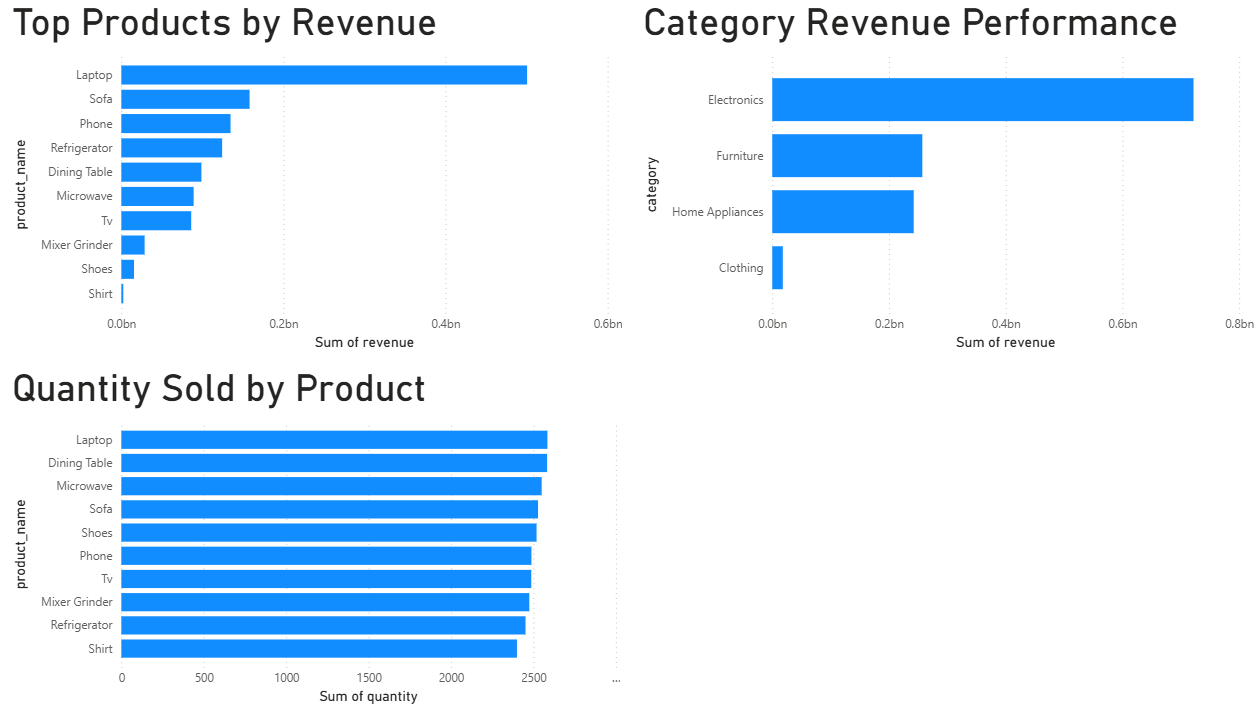

Layout of this report page (visuals, bound fields, positions):
{"tool":"powerbi","page":{"name":"Product Analysis","canvas":[1280,720],"ordinal":1},"visuals":[{"type":"clusteredBarChart","title":"Top Products by Revenue","fields":{"Category":["final_cleaned_data.product_name"],"Y":["Sum(final_cleaned_data.revenue)"]},"box":[9.7,0,629.6,360.7],"z":0},{"type":"clusteredBarChart","title":"Quantity Sold by Product","fields":{"Category":["final_cleaned_data.product_name"],"Y":["Sum(final_cleaned_data.quantity)"]},"box":[10,371,630,349],"z":1},{"type":"clusteredBarChart","title":"Category Revenue Performance","fields":{"Category":["final_cleaned_data.category"],"Y":["Sum(final_cleaned_data.revenue)"]},"box":[650,0,630,361],"z":2}]}

Visuals, with their boxes in screenshot pixels (x1, y1, x2, y2), scaled from the page's 1280x720 canvas onto the 1258x705 screenshot:
"Top Products by Revenue" clusteredBarChart: Rect(10, 0, 628, 353)
"Quantity Sold by Product" clusteredBarChart: Rect(10, 363, 629, 704)
"Category Revenue Performance" clusteredBarChart: Rect(639, 0, 1257, 353)
